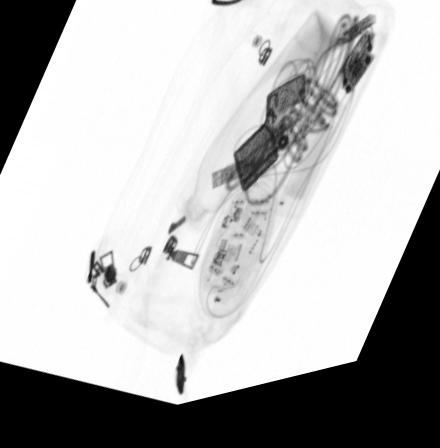Lighter: (232, 88, 306, 203)
